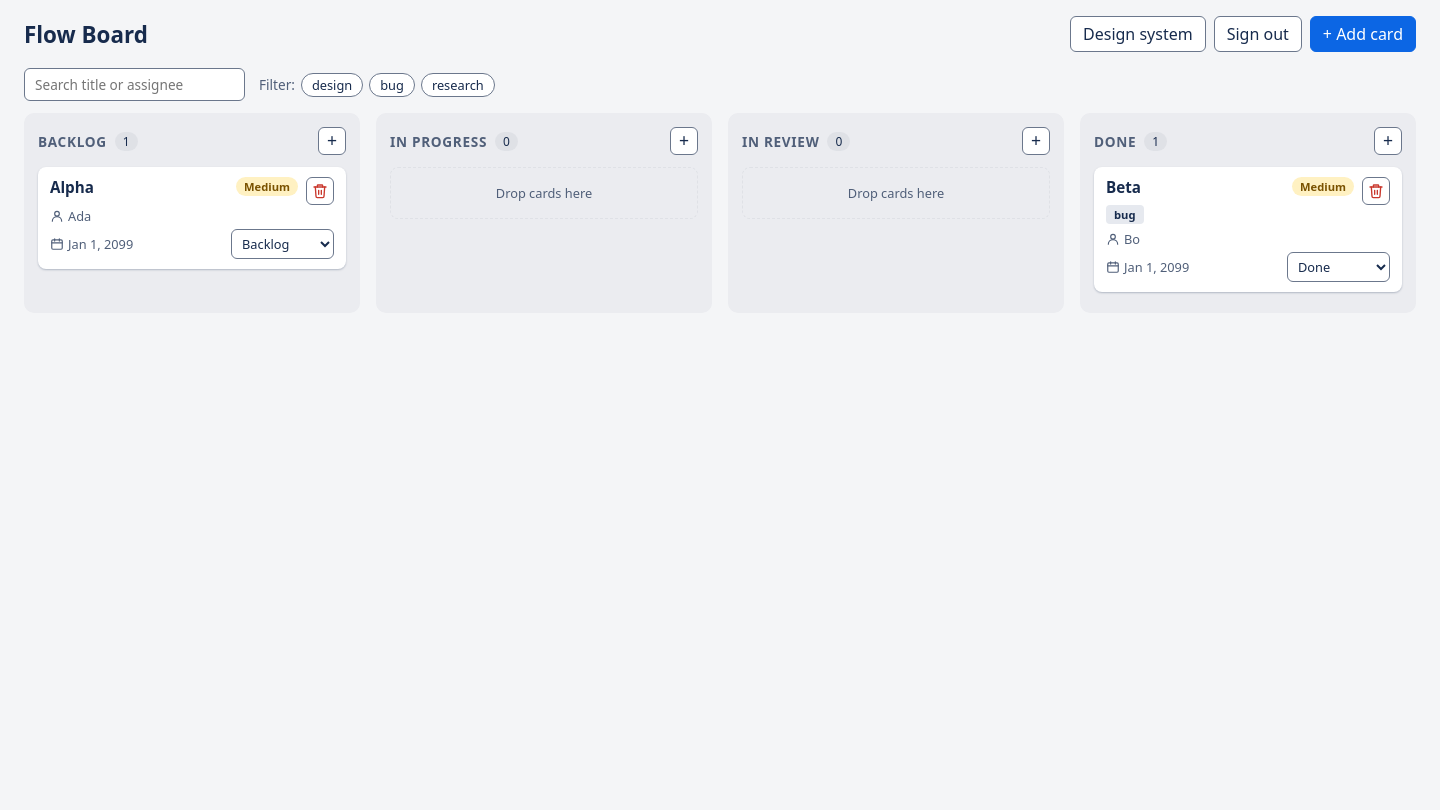
Test: creating a card › a column "+" button pre-selects that column
The width and height of the screenshot is (1440, 810).
Expected: the button "Alpha" is shown, [50,177,94,197]
Click the button named "Add card to In Review": (1036, 141) [1022,127,1050,155]
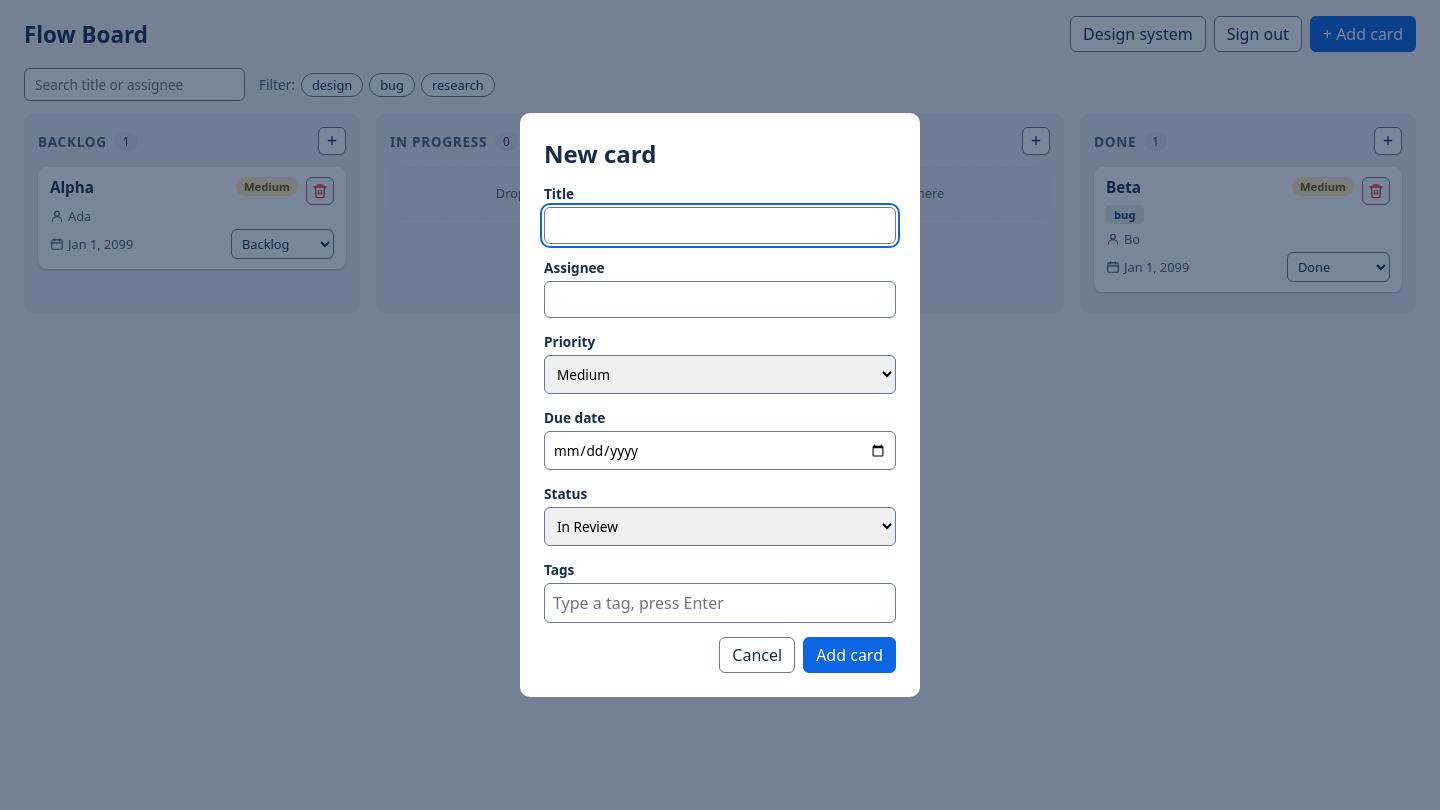
Expected: the dropdown labelled "Status" shows "In Review", [544,507,896,546]
